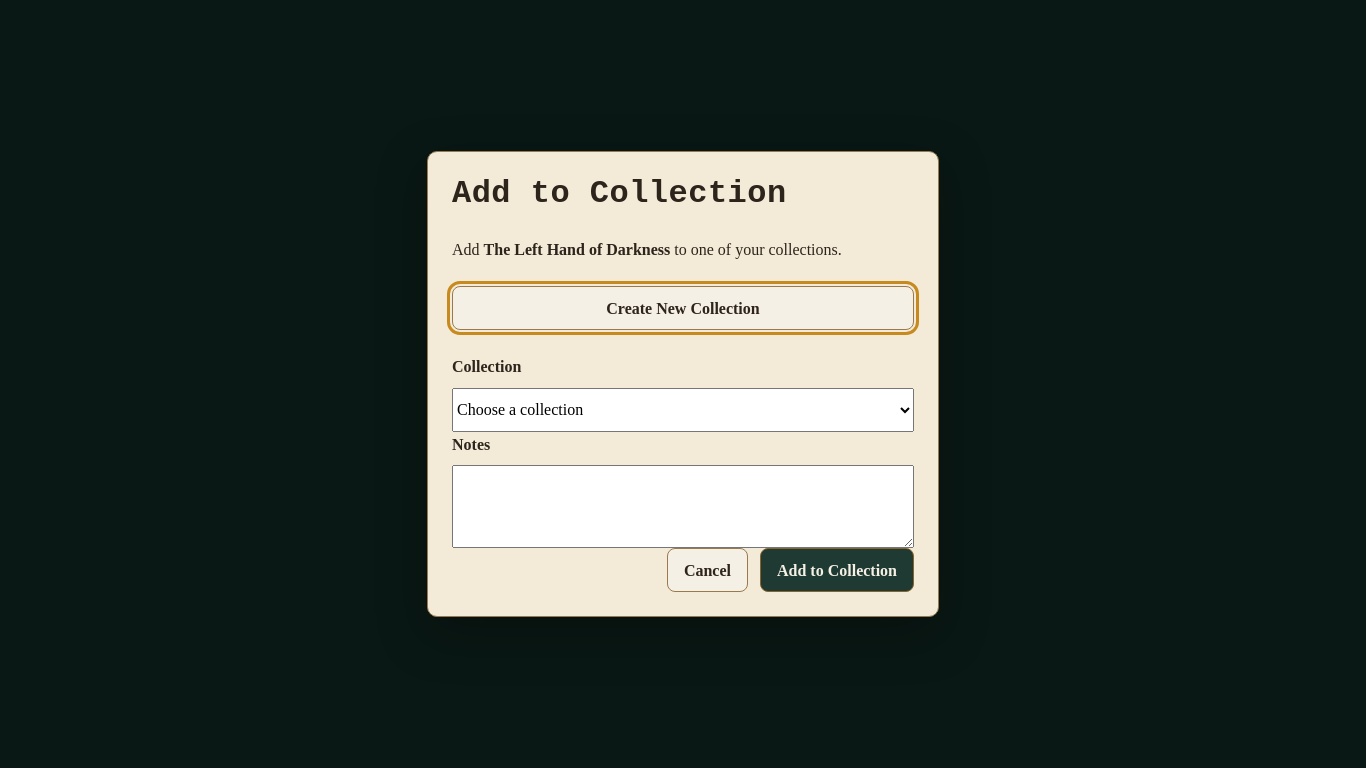
Test case: AddBookToCollectionDialog › surfaces collection validation errors from 422 responses
Select "Staff Picks" in the dropdown labelled "Collection": {"x": 683, "y": 410} [452,388,914,432]
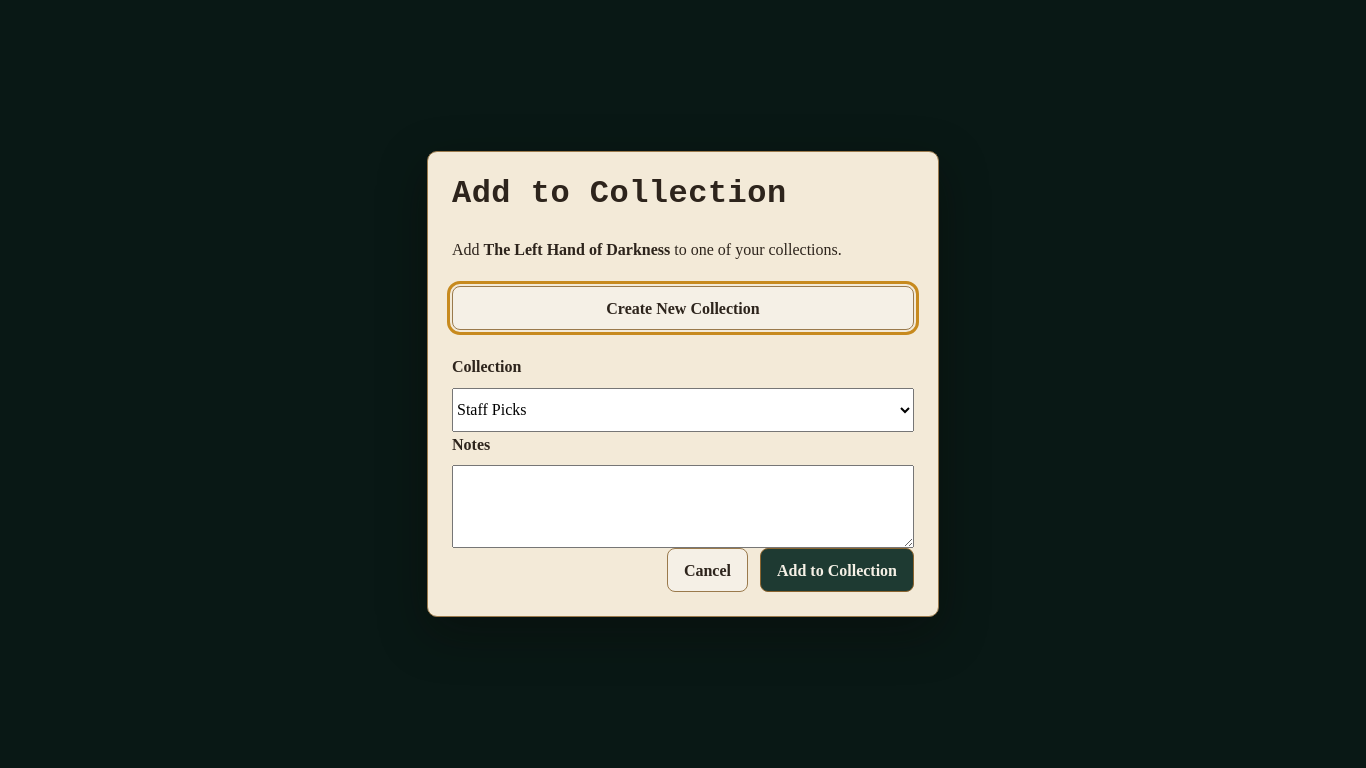
Click the button "Add to Collection": {"x": 837, "y": 570} [760,548,914,592]
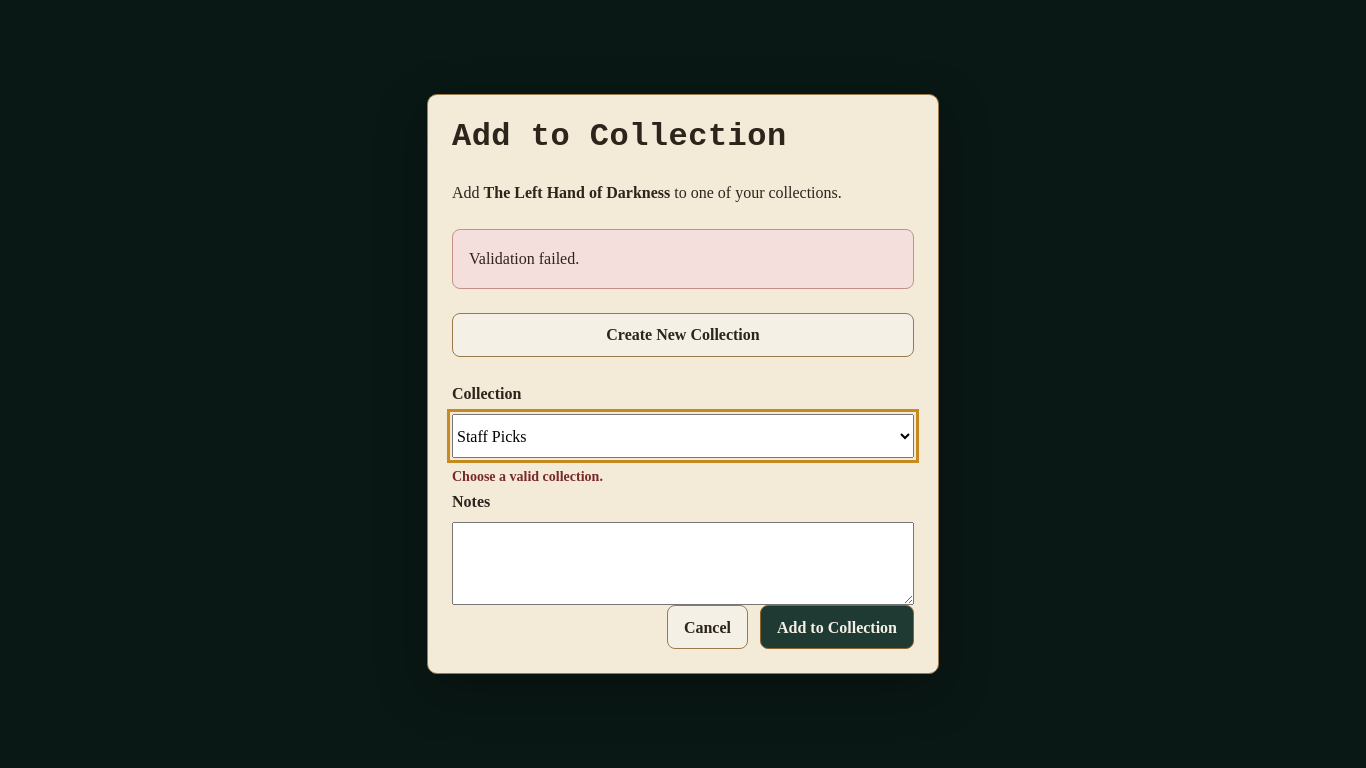
Check: the text "Choose a valid collection." is shown, box [452,469,603,484]
